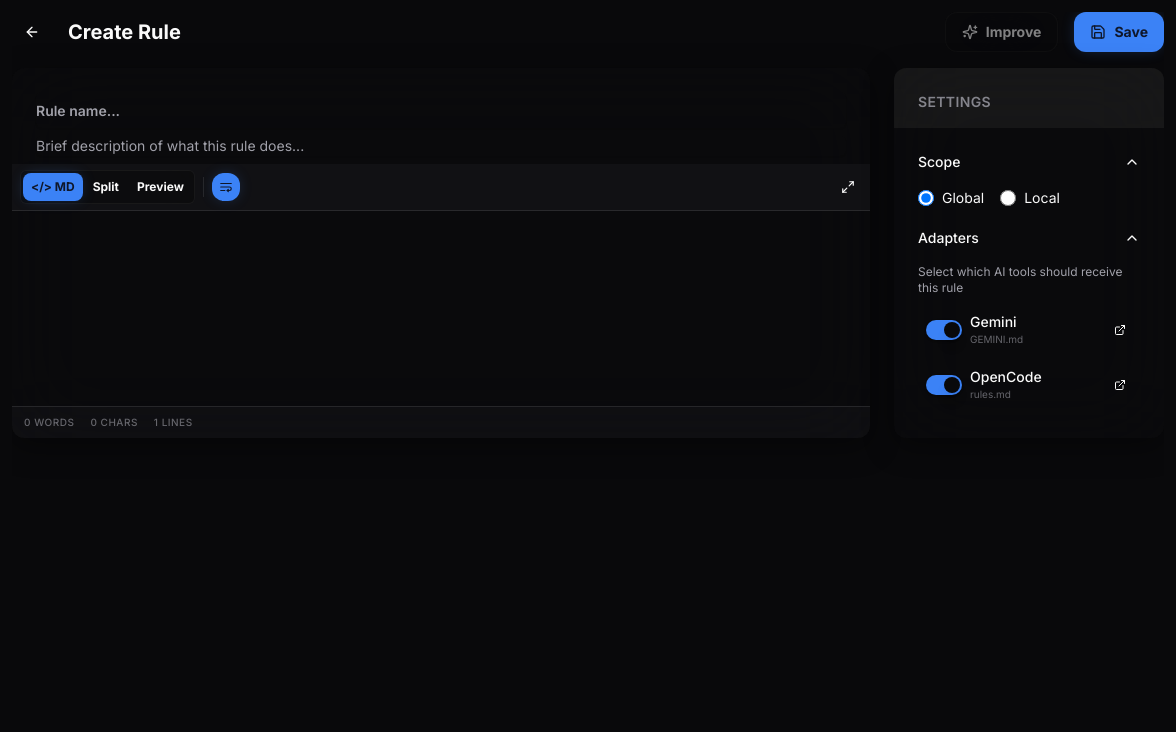
RuleEditor › shows validation toast when saving without a name
This screenshot has width=1176, height=732.
Click the button "Save": coordinates (1119, 32) [1074,12,1164,52]
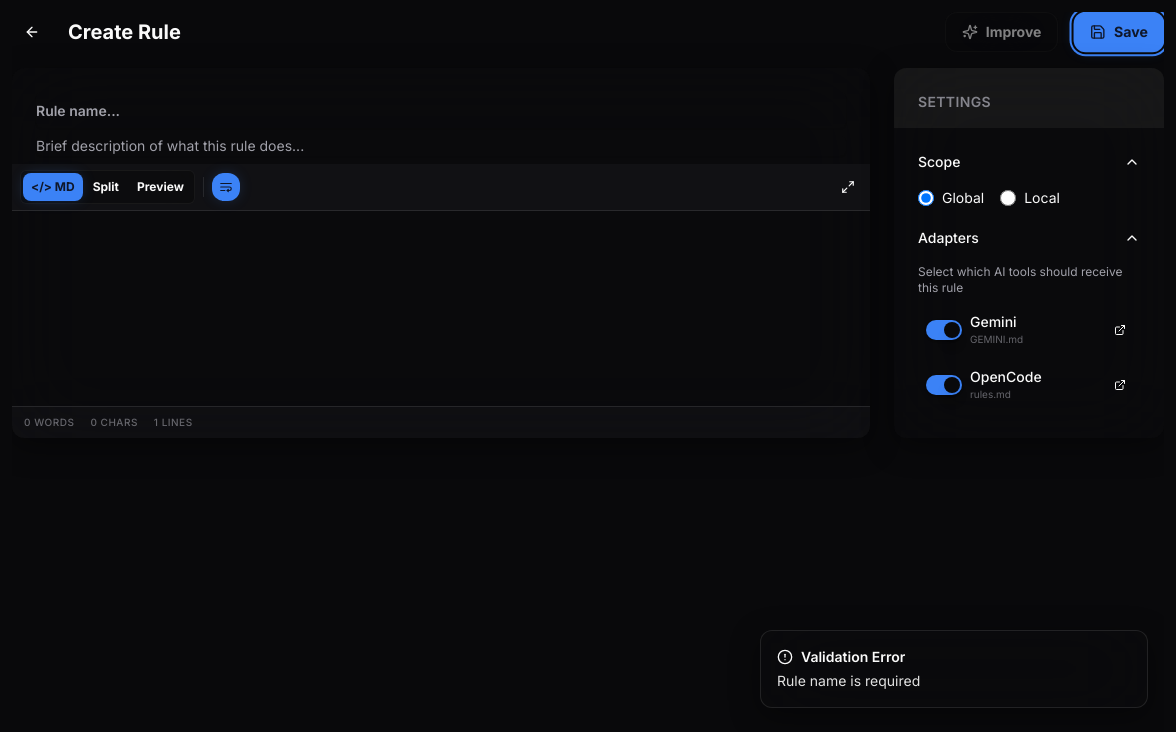
Check: the text "Validation Error" is shown, box [801,647,905,667]
Check: the text "Rule name is required" is shown, box [777,672,920,689]
